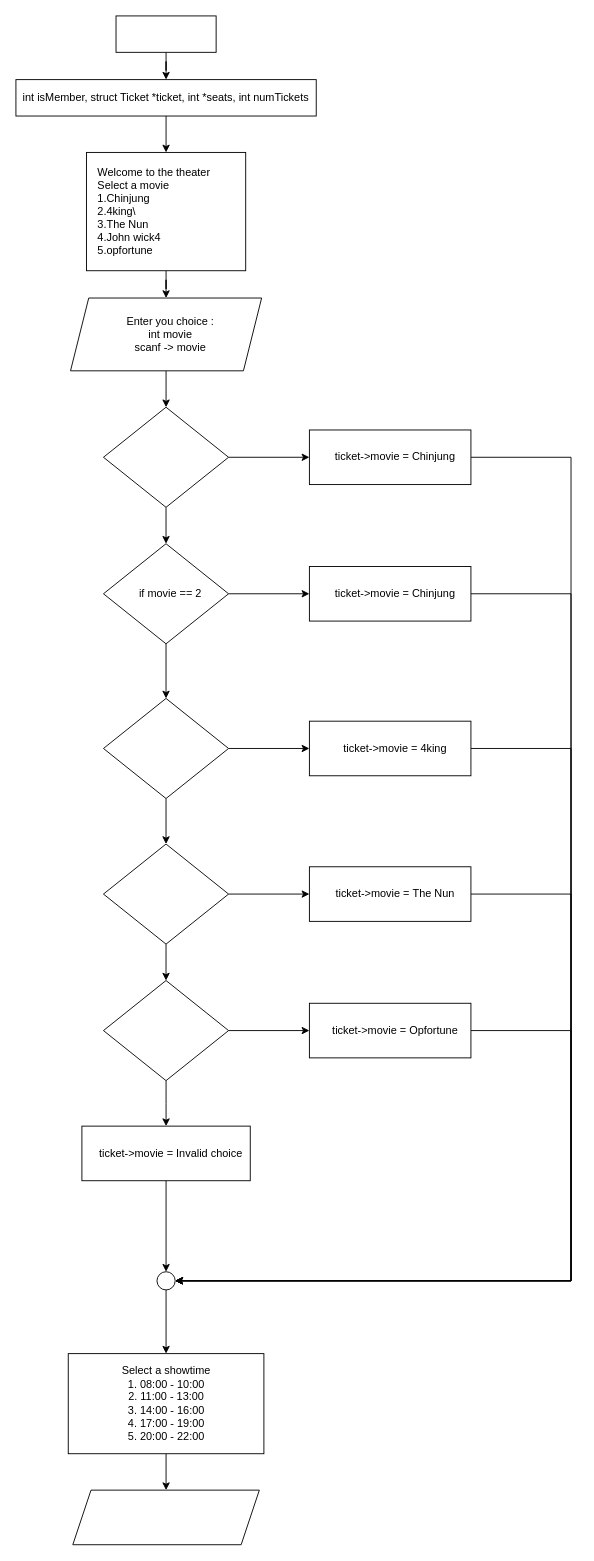
The diagram is 594 pixels wide and 1561 high, and some of its shapes have lost their labels. The shapes that lost their labels are listed below. From the top down, each one's box as (x1, y1, x2, y2) in pixels, then its label:
(115, 15, 216, 52): buyTickets
(103, 406, 229, 507): if movie == 1
(103, 698, 229, 799): if movie == 3
(103, 843, 229, 944): if movie == 4
(103, 980, 229, 1081): if movie == 5
(72, 1489, 259, 1545): int showtime scanf -> showtime
